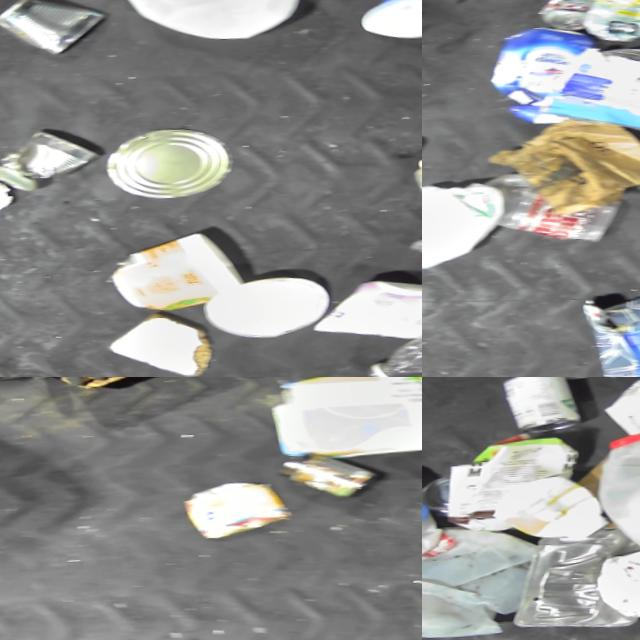can: (109, 120, 245, 200), (0, 121, 112, 193), (181, 473, 299, 539), (0, 0, 115, 58), (277, 443, 383, 499), (501, 377, 591, 433), (581, 0, 640, 42), (541, 0, 625, 28), (424, 471, 461, 516), (0, 171, 24, 221)
milk_jug: (422, 517, 551, 640), (422, 175, 523, 276), (101, 0, 321, 46), (596, 421, 640, 559), (422, 462, 458, 571), (600, 532, 640, 621)
plastic_bottle: (372, 291, 422, 377)
